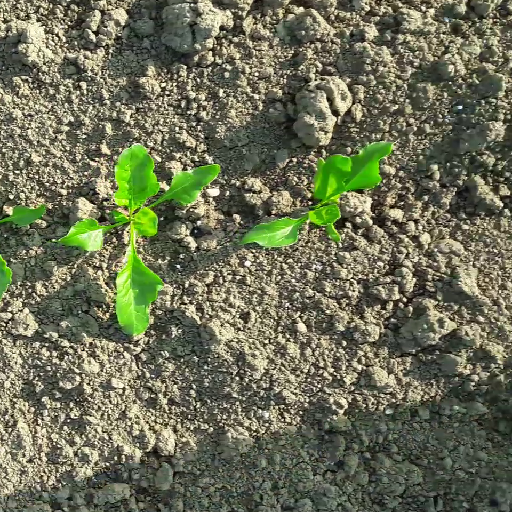sugarbeet: (51, 142, 227, 342), (239, 138, 399, 254)
